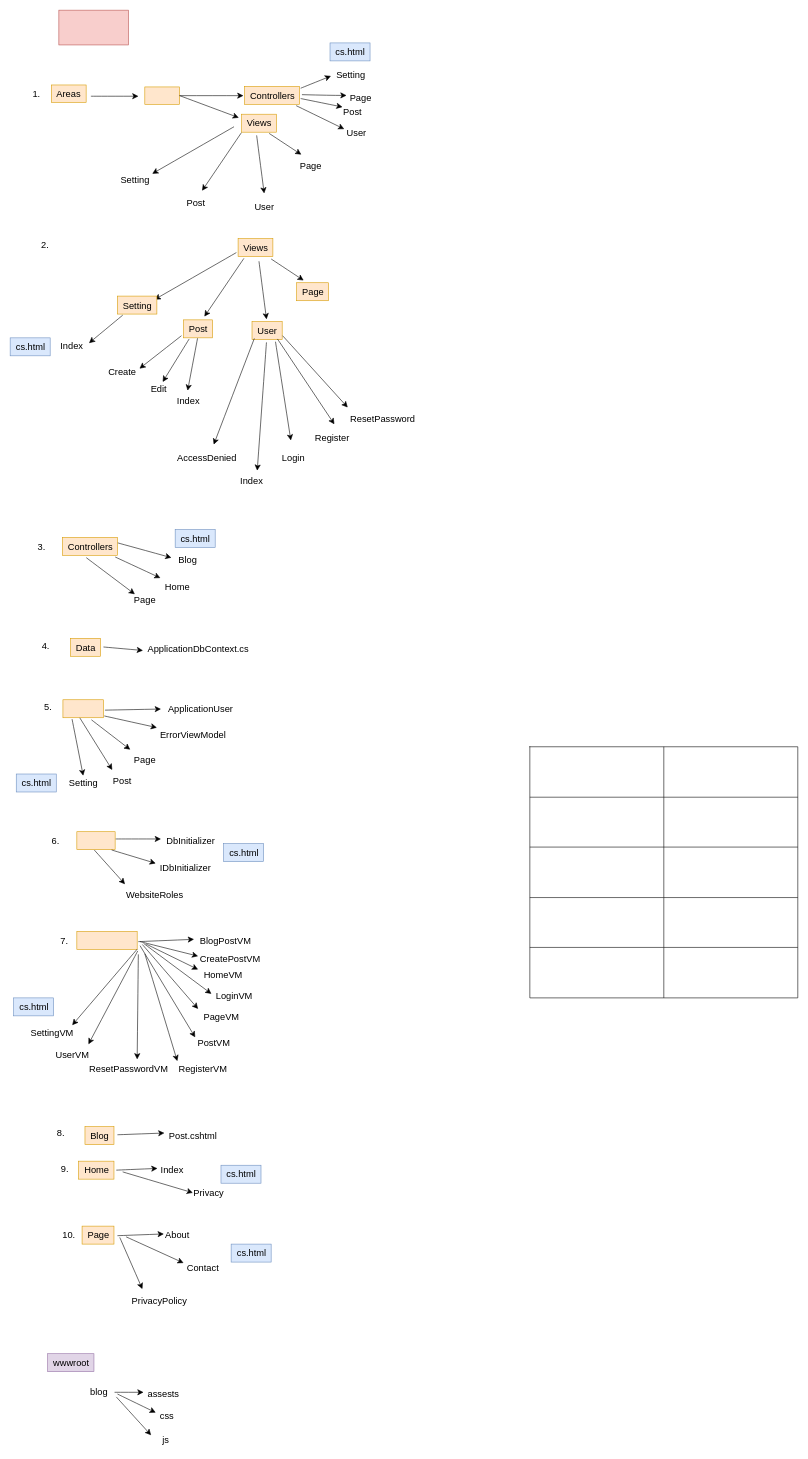
This 808x1459 diagram has some shape labels left out. Here are the shapes that lost their labels. From the top down, the box of each, then its label:
(58, 10, 128, 45): BLOG MVC FOLDER STRUCTURE
(144, 86, 180, 104): Admin
(62, 699, 104, 718): Models
(76, 831, 115, 850): Utilites
(76, 931, 137, 949): ViewModels
